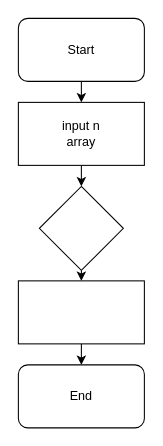
The diagram is 163 pixels wide and 446 high, and some of its shapes have lost their labels. The shapes that lost their labels are listed below. From the top down, each one's centre as x and y in pixels, then its label:
the point at 80,227: i = -n; i<=n; i++
the point at 80,312: output array
